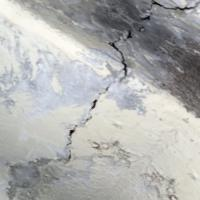crack: (50, 0, 199, 167)
